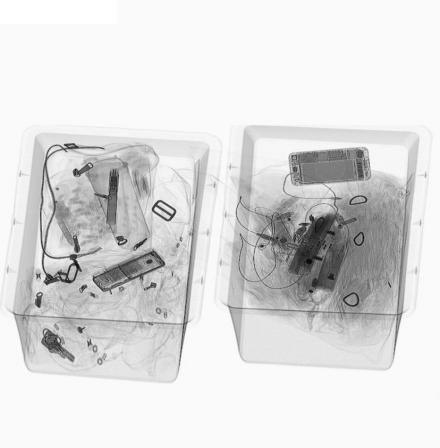Powerbank: (285, 211, 340, 277)
